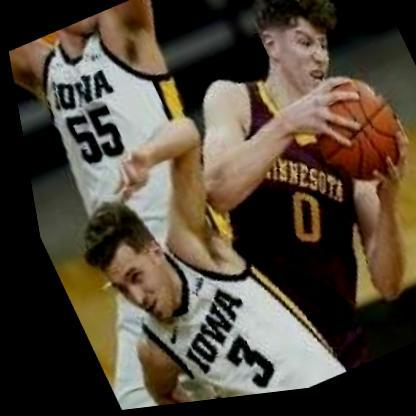basketball: (288, 67, 416, 204)
